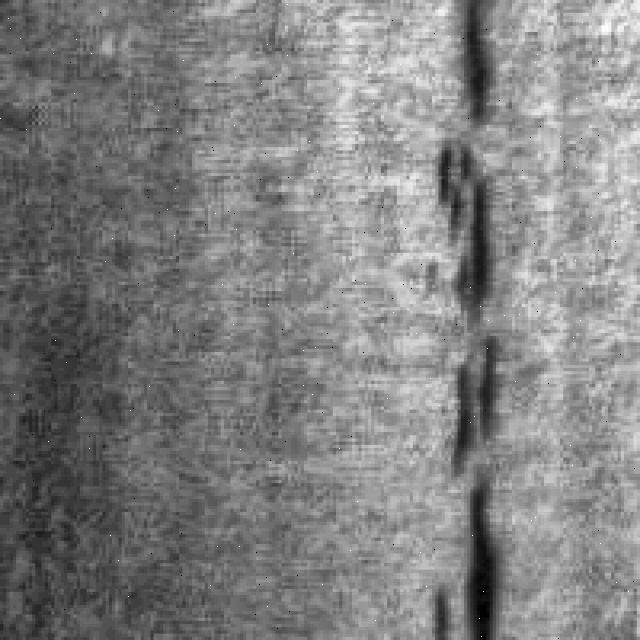Patches: (428, 105, 516, 314), (428, 477, 506, 637), (438, 320, 516, 477), (445, 0, 509, 125)
